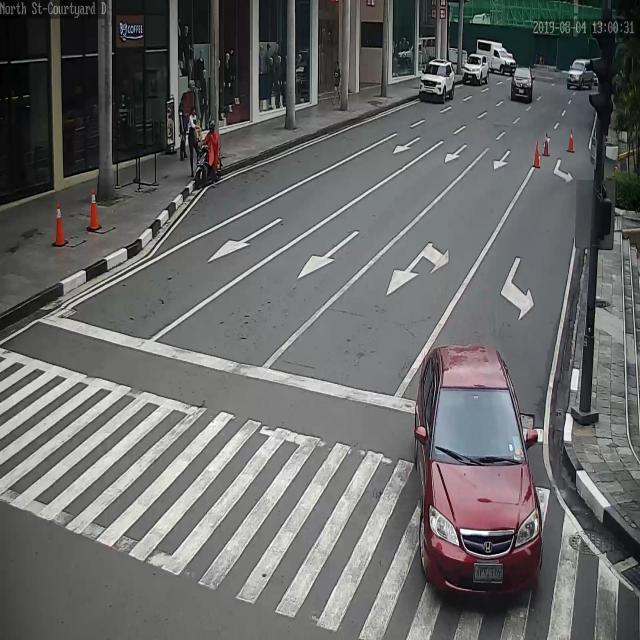car: (419, 342, 545, 607), (417, 59, 456, 105), (567, 60, 597, 89), (512, 68, 535, 103), (461, 58, 489, 86)
jeepney: (194, 126, 224, 191)
van: (476, 42, 517, 76)
